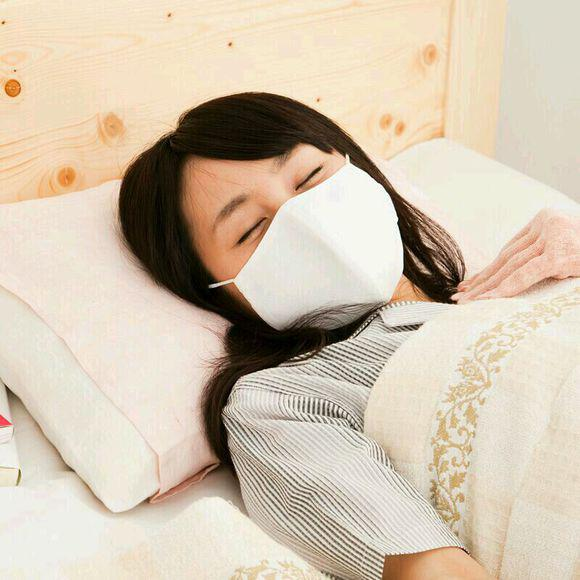OK: (219, 155, 392, 328)
